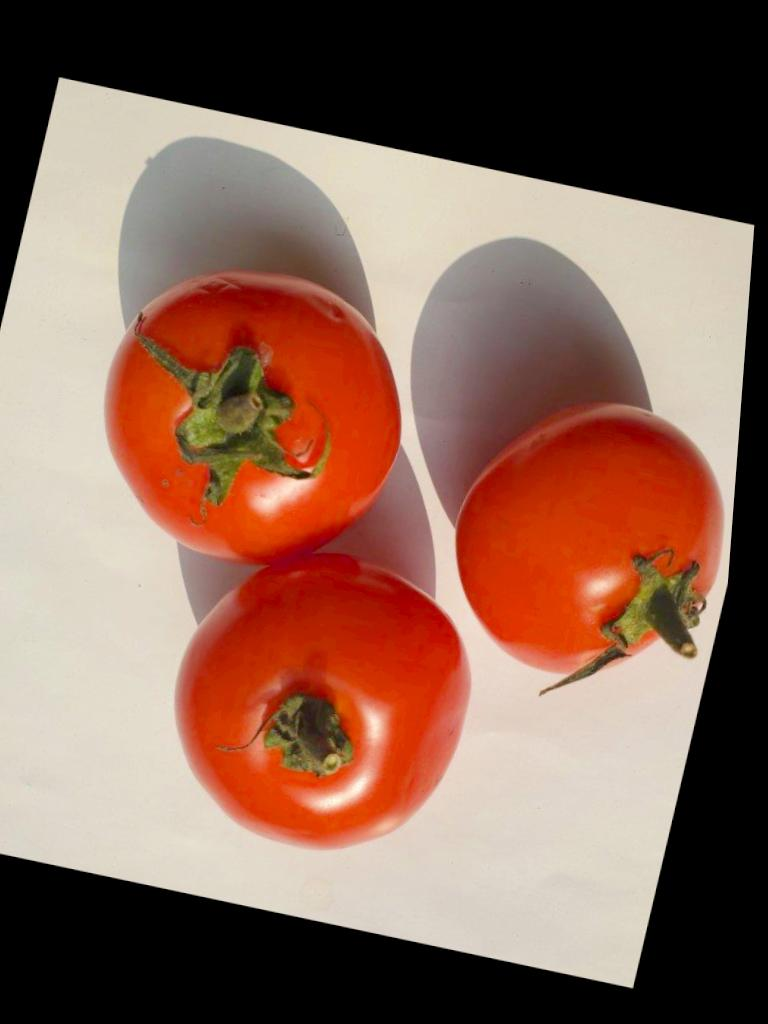tomato: (174, 553, 470, 848), (106, 270, 400, 559), (456, 402, 722, 691)
